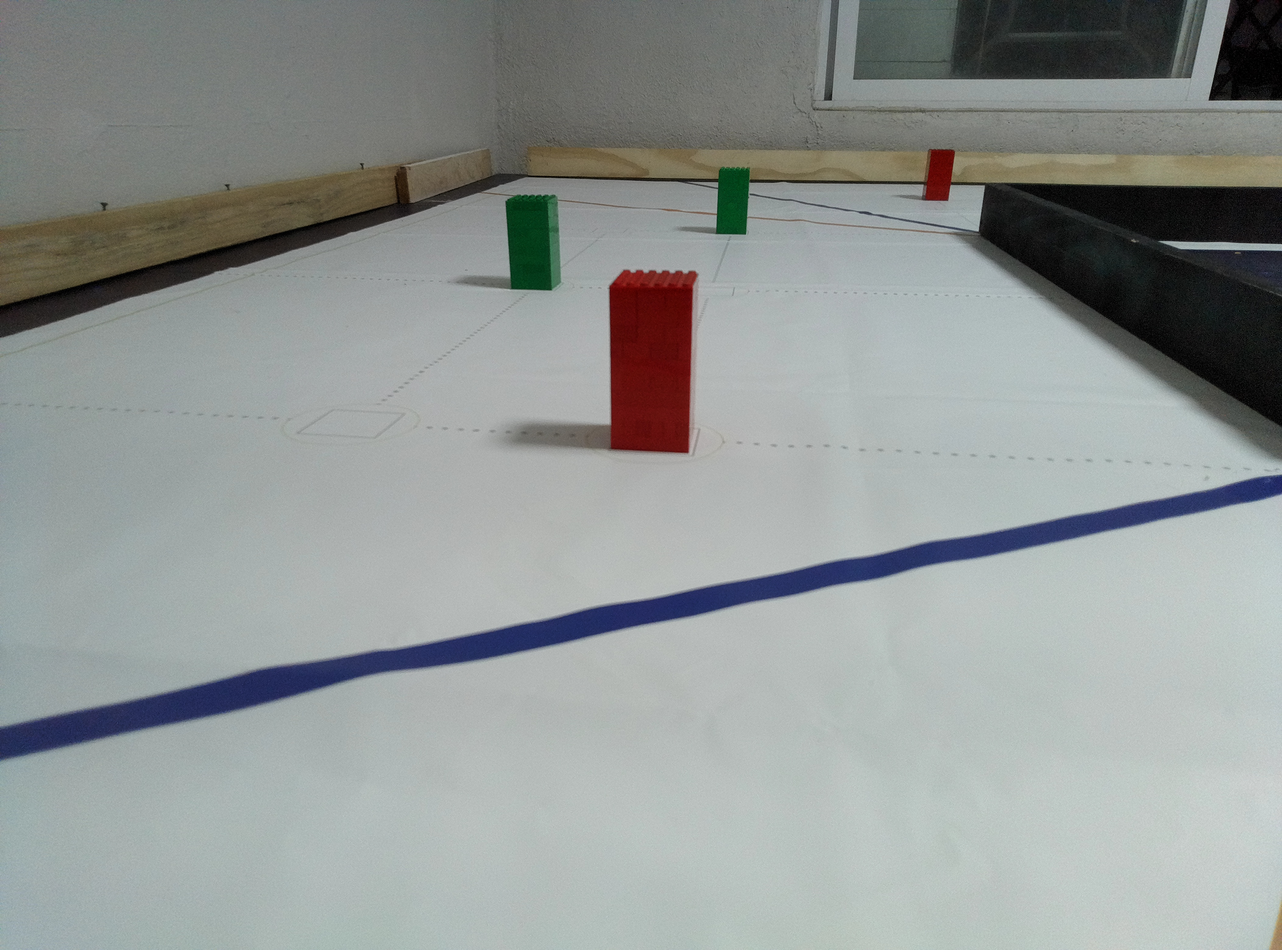greenbox: (505, 195, 561, 290), (716, 166, 751, 235)
redbox: (609, 269, 701, 455), (921, 149, 955, 201)
